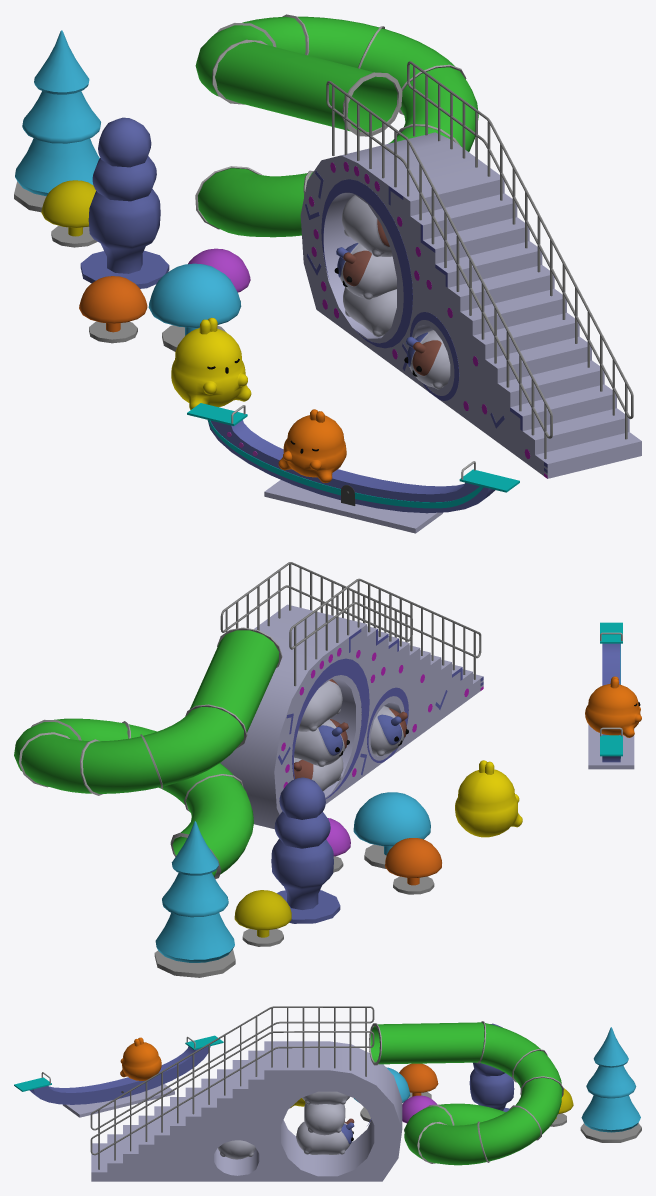
3 renders of one model, top to bottom at view 1: azimuth 30°, elevation 25°; view 2: azimuth 150°, elevation 25°; view 3: azimuth 270°, elevation 25°, orthographic. The views are drawn at different scales.
Visible parts, largest first — view 1: SM_413; view 2: SM_413; view 3: SM_413.
Part boxes in pixels (x1,y1,x2,y2): SM_413: [14, 14, 641, 533]; SM_413: [14, 562, 641, 977]; SM_413: [14, 1006, 641, 1181].
Bounding box in the file's own units: 5.24 × 2.45 × 9.2.
